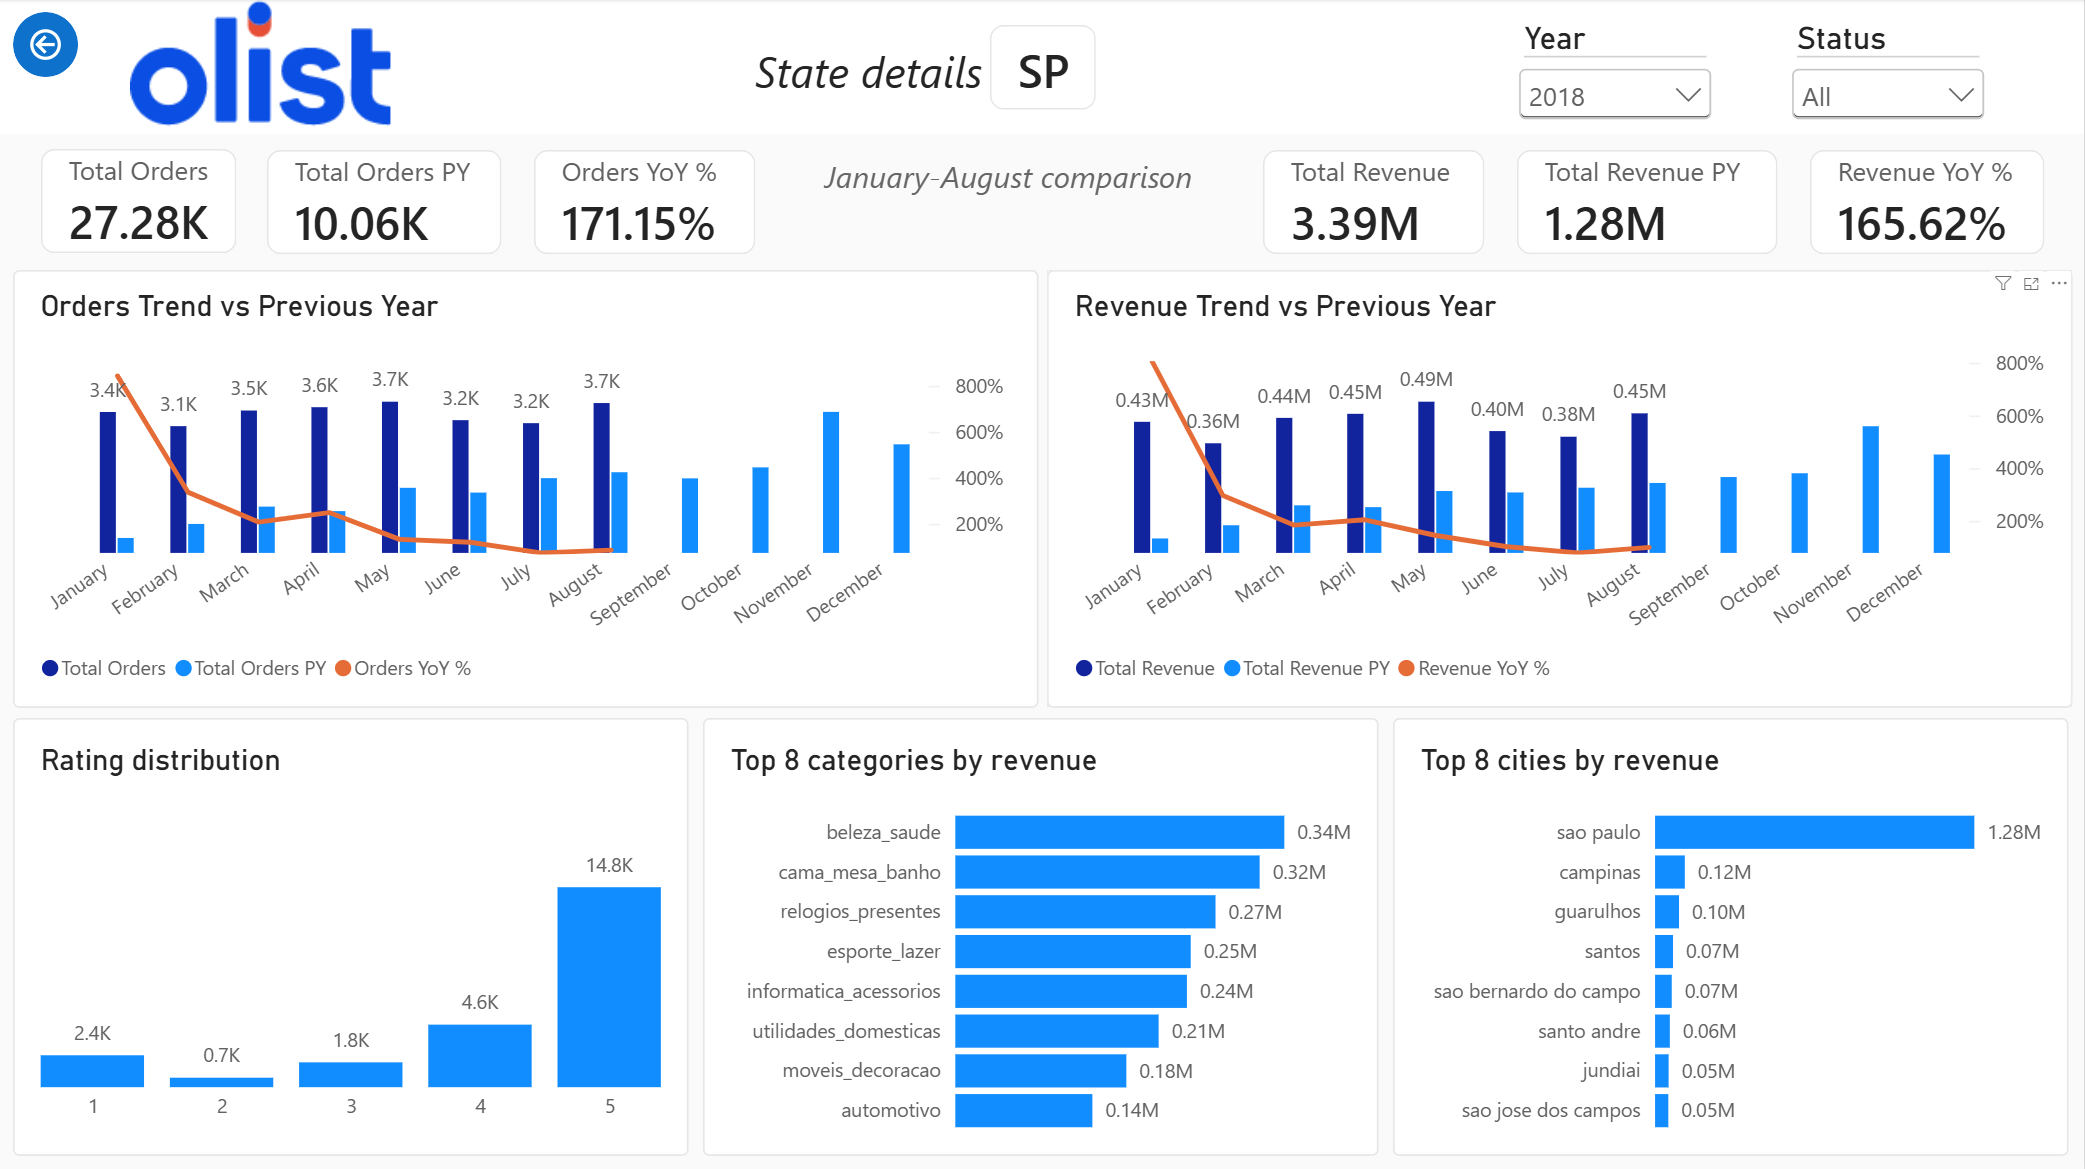

This screenshot's page, from the dashboard's own definition file:
{"tool":"powerbi","page":{"name":"State Detail","canvas":[1280,720],"ordinal":1},"visuals":[{"type":"shape","box":[0,0,1280,83.2],"z":0},{"type":"textbox","box":[8,600,152,120],"z":2000},{"type":"slicer","fields":{"Values":["calendar.Year"]},"box":[928,12.8,128,64],"z":3000},{"type":"actionButton","box":[8,8,40,40],"z":4000},{"type":"cardVisual","fields":{"Data":["Min(dim_customers.customer_state)"]},"box":[608,16,65,52],"z":5000},{"type":"cardVisual","fields":{"Data":["misure.Orders Count Jan-Aug"]},"box":[25,92,120,64],"z":6000},{"type":"cardVisual","fields":{"Data":["misure.Total Revenue Jan-Aug"]},"box":[776,92.8,136,64],"z":7000},{"type":"cardVisual","fields":{"Data":["misure.Orders Count PY Jan-Aug"]},"box":[164,92.8,144,64],"z":8000},{"type":"cardVisual","fields":{"Data":["misure.Total revenue PY Jan-Aug"]},"box":[932,92.8,160,64],"z":9000},{"type":"cardVisual","fields":{"Data":["misure.Orders YoY % Jan-Aug"]},"box":[328,92.8,136,64],"z":10000},{"type":"cardVisual","fields":{"Data":["misure.Revenue YoY % Jan-Aug"]},"box":[1112,92.8,144,64],"z":11000},{"type":"textbox","box":[496,96,248,48],"z":12000},{"type":"lineClusteredColumnComboChart","title":"Orders Trend vs Previous Year","fields":{"Category":["calendar.Month Name"],"Y":["misure.Orders Count","misure.Orders Count PY"],"Y2":["misure.Orders Count YoY %"]},"box":[8,166.4,630,268.8],"z":13000},{"type":"lineClusteredColumnComboChart","title":"Revenue Trend vs Previous Year","fields":{"Category":["calendar.Month Name"],"Y":["misure.Total Revenue","misure.Total Revenue PY"],"Y2":["misure.Total Revenue YoY %"]},"box":[643,166.4,630,268.8],"z":14000},{"type":"barChart","title":"Top 8 cities by revenue","fields":{"Category":["dim_customers.customer_city"],"Y":["misure.Total Revenue"]},"box":[856,441.6,415,268.8],"z":15000},{"type":"barChart","title":"Top 8 categories by revenue","fields":{"Category":["dim_products.product_category_name"],"Y":["misure.Total Revenue"]},"box":[432,441.6,415,268.8],"z":16000},{"type":"clusteredColumnChart","title":"Rating distribution","fields":{"Category":["fact_order_reviews.review_score"],"Y":["misure.Reviews Count"]},"box":[8,441.6,415,268.8],"z":17000},{"type":"slicer","fields":{"Values":["fact_orders.order_status"]},"box":[1096,12.8,128,64],"z":18000},{"type":"textbox","box":[464,25.6,144,38.4],"z":19000},{"type":"image","box":[80,0,160,80],"z":19001}]}

Visuals, with their boxes in screenshot pixels (x1, y1, x2, y2), scaled from the page's 1280x720 canvas onto the 2085x1169 screenshot:
shape: detection(0, 0, 2084, 135)
textbox: detection(13, 974, 261, 1168)
slicer - calendar.Year: detection(1512, 21, 1720, 125)
actionButton: detection(13, 13, 78, 78)
cardVisual - Min(dim_customers.customer_state): detection(990, 26, 1096, 110)
cardVisual - misure.Orders Count Jan-Aug: detection(41, 149, 236, 253)
cardVisual - misure.Total Revenue Jan-Aug: detection(1264, 151, 1486, 255)
cardVisual - misure.Orders Count PY Jan-Aug: detection(267, 151, 502, 255)
cardVisual - misure.Total revenue PY Jan-Aug: detection(1518, 151, 1779, 255)
cardVisual - misure.Orders YoY % Jan-Aug: detection(534, 151, 756, 255)
cardVisual - misure.Revenue YoY % Jan-Aug: detection(1811, 151, 2046, 255)
textbox: detection(808, 156, 1212, 234)
"Orders Trend vs Previous Year" lineClusteredColumnComboChart: detection(13, 270, 1039, 707)
"Revenue Trend vs Previous Year" lineClusteredColumnComboChart: detection(1047, 270, 2074, 707)
"Top 8 cities by revenue" barChart: detection(1394, 717, 2070, 1153)
"Top 8 categories by revenue" barChart: detection(704, 717, 1380, 1153)
"Rating distribution" clusteredColumnChart: detection(13, 717, 689, 1153)
slicer - fact_orders.order_status: detection(1785, 21, 1994, 125)
textbox: detection(756, 42, 990, 104)
image: detection(130, 0, 391, 130)
